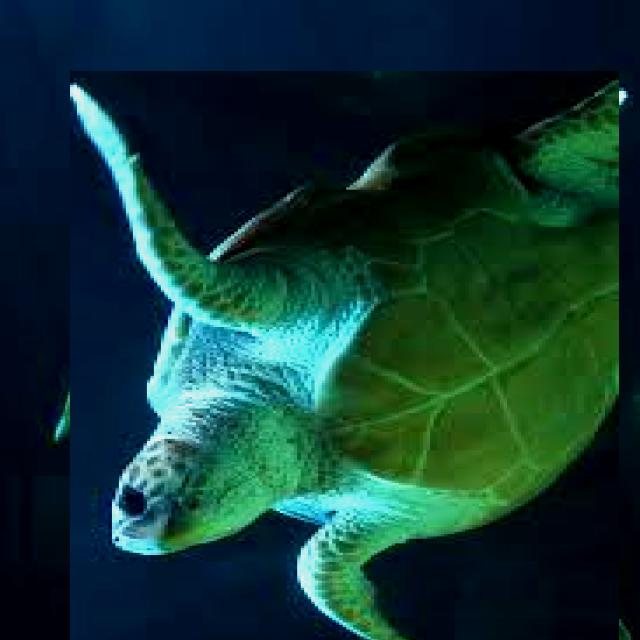Sea turtle: (59, 80, 629, 640)
